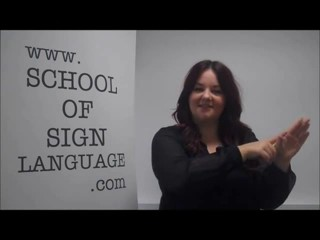Y: (249, 113, 313, 175)
